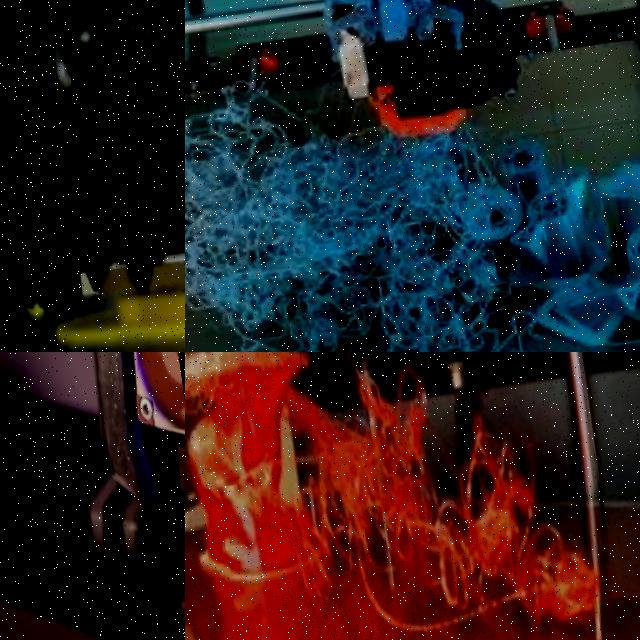spaghetti: (293, 358, 609, 640), (185, 79, 499, 352)
